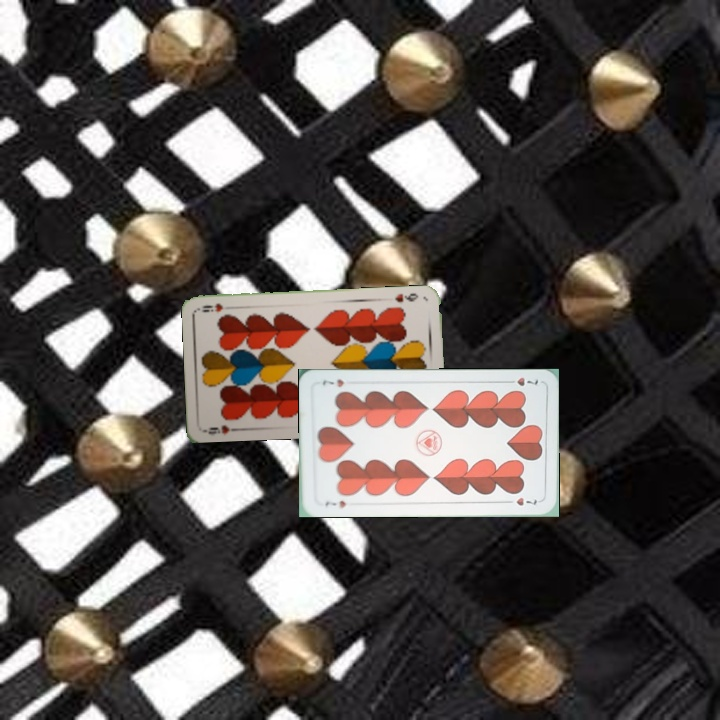H7: (502, 374, 540, 389), (321, 497, 348, 510)
H9: (201, 421, 242, 437), (391, 289, 421, 305)
